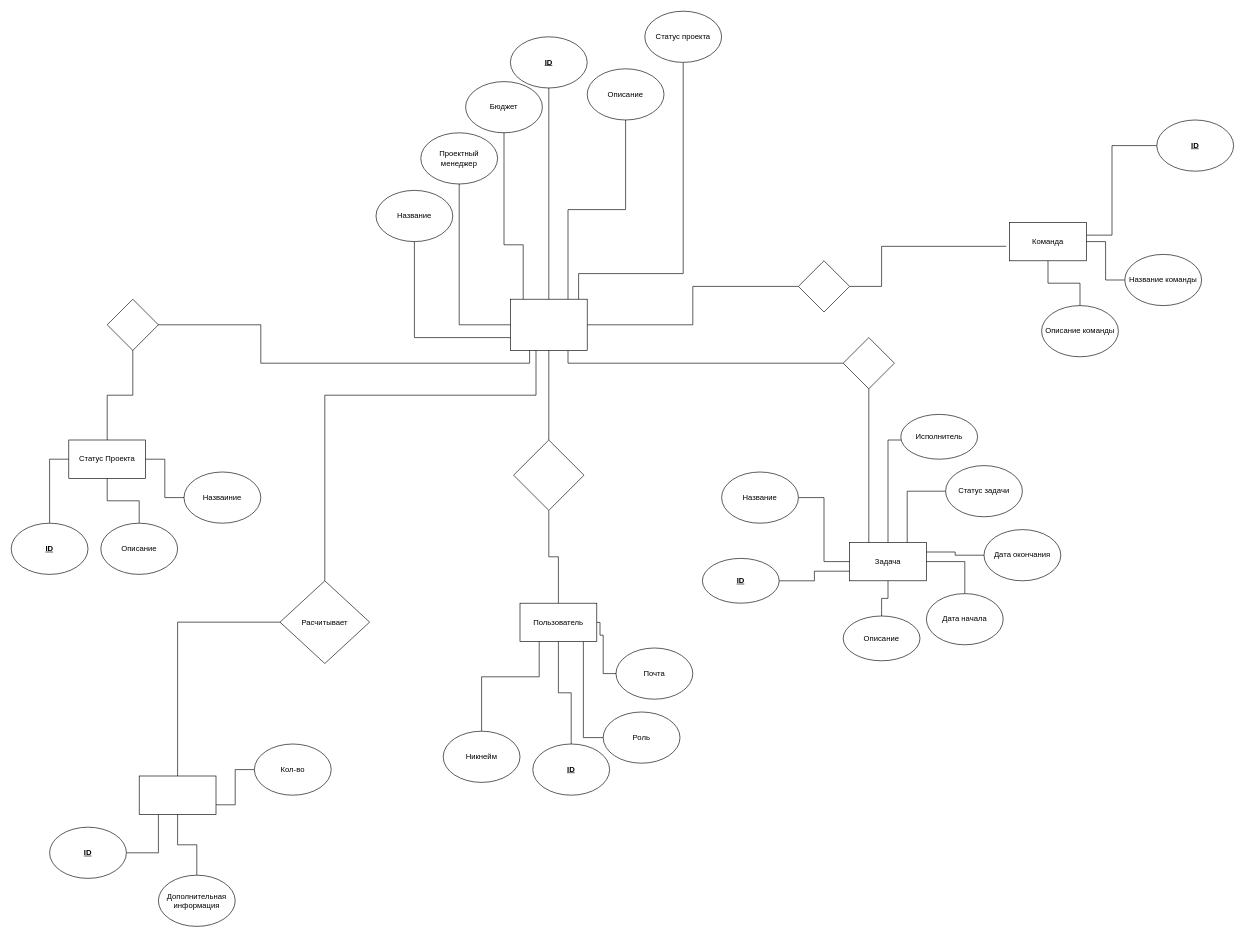
The diagram is 1245 pixels wide and 938 high, and some of its shapes have lost their labels. The box of each missing label's shape, as (x1, y1, x2, y2) in pixels:
Имеет: (107, 299, 158, 350)
Назначается: (513, 439, 584, 510)
Относятся: (798, 260, 850, 312)
Проект: (510, 299, 587, 350)
Содержит: (843, 337, 894, 389)
Финансовый отчет: (139, 775, 216, 814)
